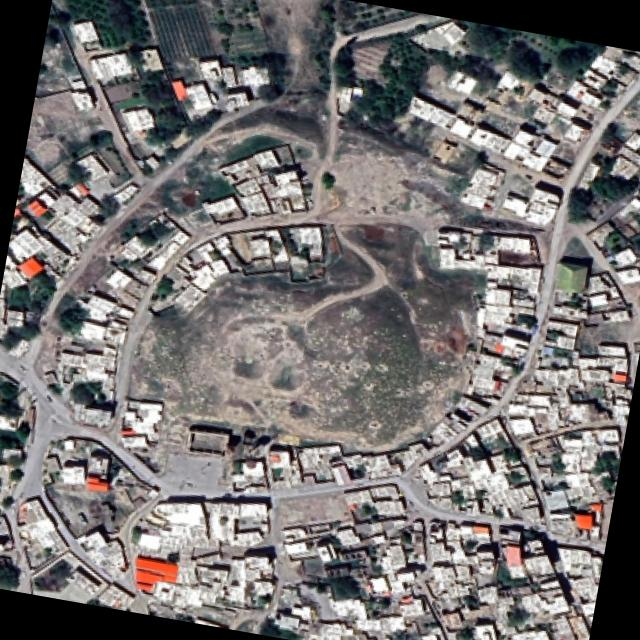artifacts: (266, 475, 440, 640), (497, 286, 640, 445), (25, 442, 154, 562), (418, 416, 550, 530), (143, 476, 278, 576), (409, 544, 534, 640), (42, 314, 131, 434), (98, 205, 196, 313), (432, 220, 544, 306), (510, 65, 611, 159), (587, 62, 640, 204), (461, 160, 564, 230), (226, 214, 314, 286), (585, 216, 640, 297), (114, 97, 172, 155), (0, 375, 36, 448), (0, 294, 37, 362)
ruins: (270, 266, 462, 452), (310, 132, 450, 236)
vegetation: (446, 19, 606, 95), (333, 22, 431, 134), (51, 0, 160, 58), (193, 0, 282, 69), (326, 0, 427, 49), (127, 0, 203, 17)
